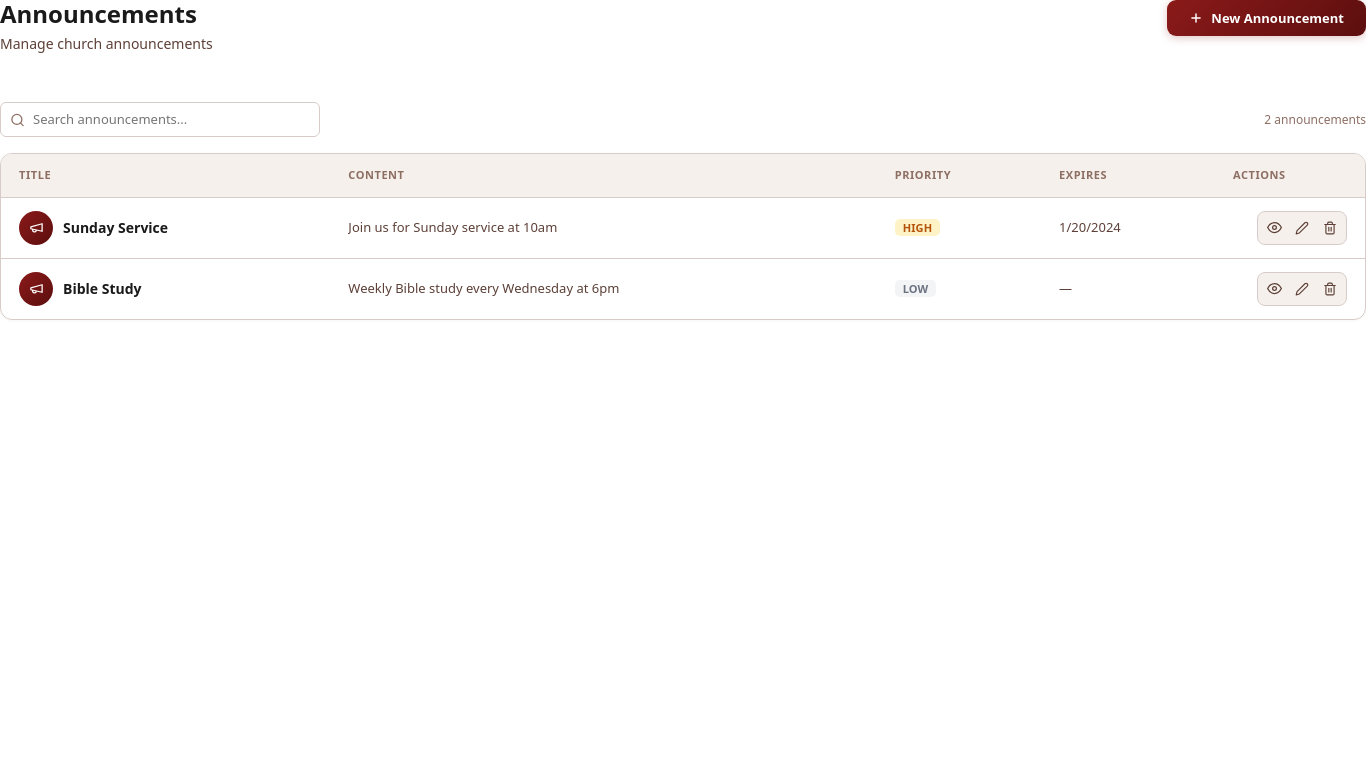
Test case: Announcements › closes the view modal via close button
Click the button named "View" in the row of "Join us for Sunday service at 10am": (1274,228) top-left (1260, 214), bottom-right (1288, 242)
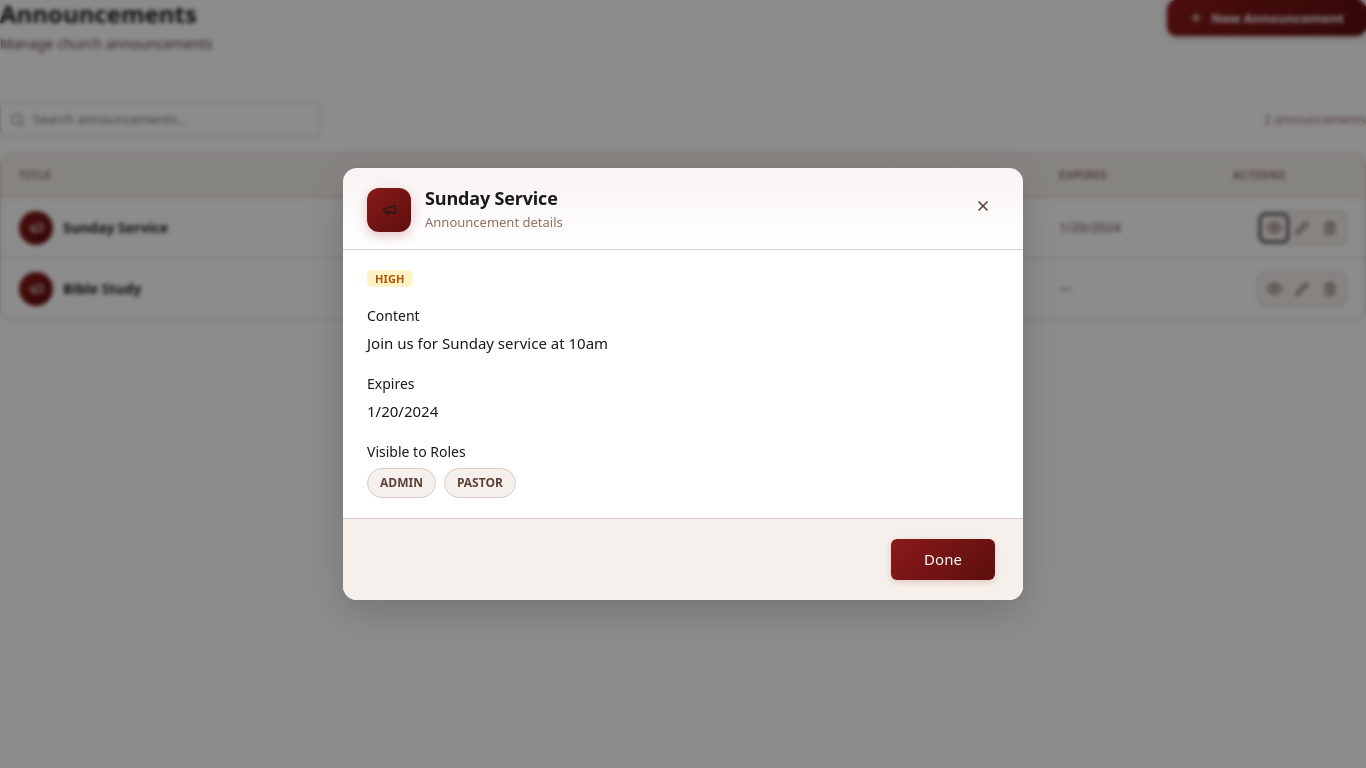
Click the button named "Close": (983,206) top-left (967, 190), bottom-right (999, 222)
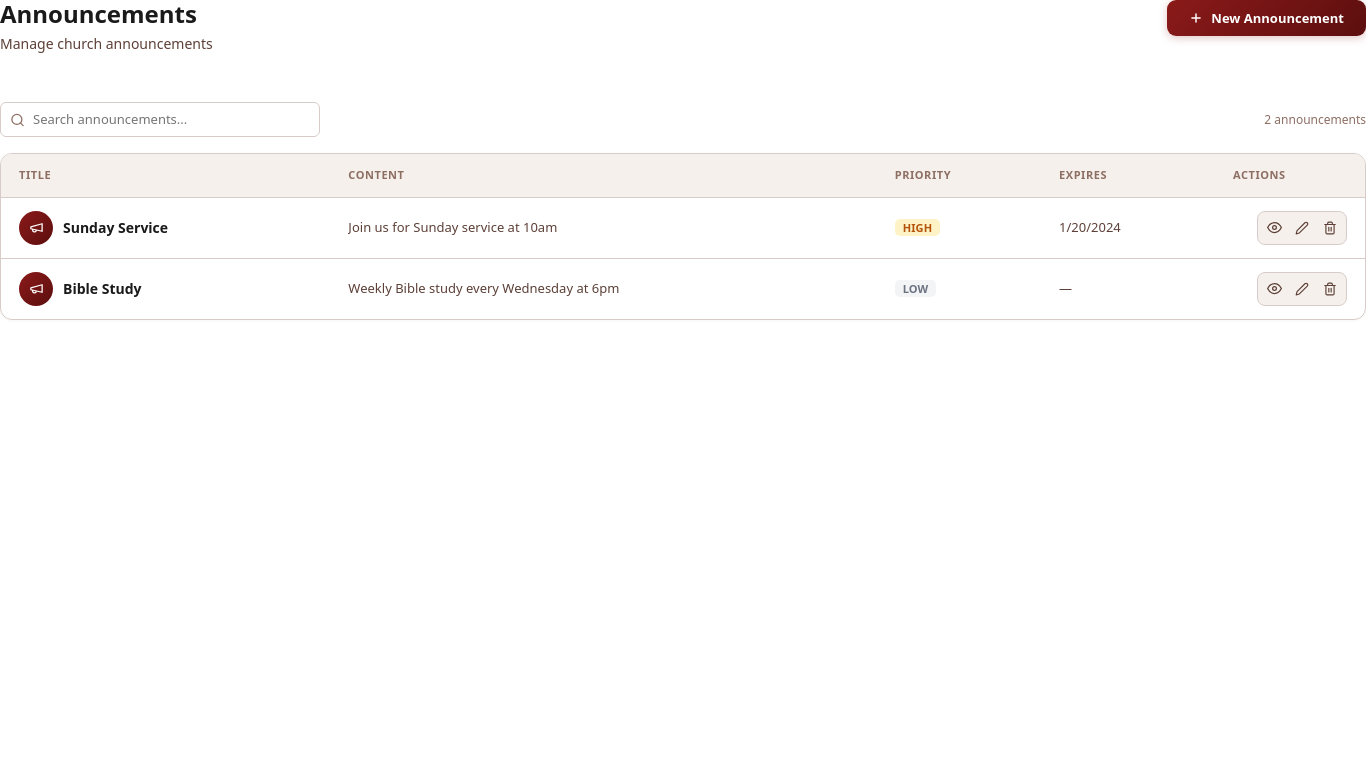
Result: the dialog is gone
